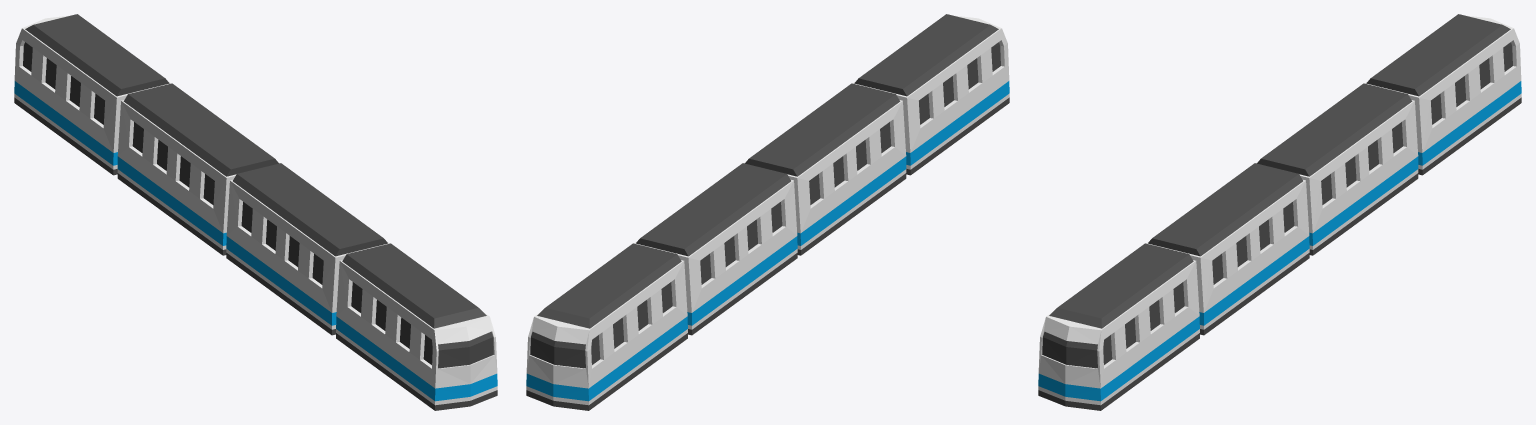
File: Trem.FBX
3 renders of one model, left to right at view 1: azimuth 30°, elevation 25°; view 2: azimuth 150°, elevation 25°; view 3: azimuth 330°, elevation 25°, orthographic.
Parts seen in each view (by area): view 1: Metro; view 2: Metro; view 3: Metro.
Boxes of the visible parts, bbox=[...] form: Metro: bbox=[14, 14, 497, 410]; Metro: bbox=[526, 14, 1009, 410]; Metro: bbox=[1038, 14, 1521, 410].
Size of the model in its own units: 69.26 by 87.97 by 823.
